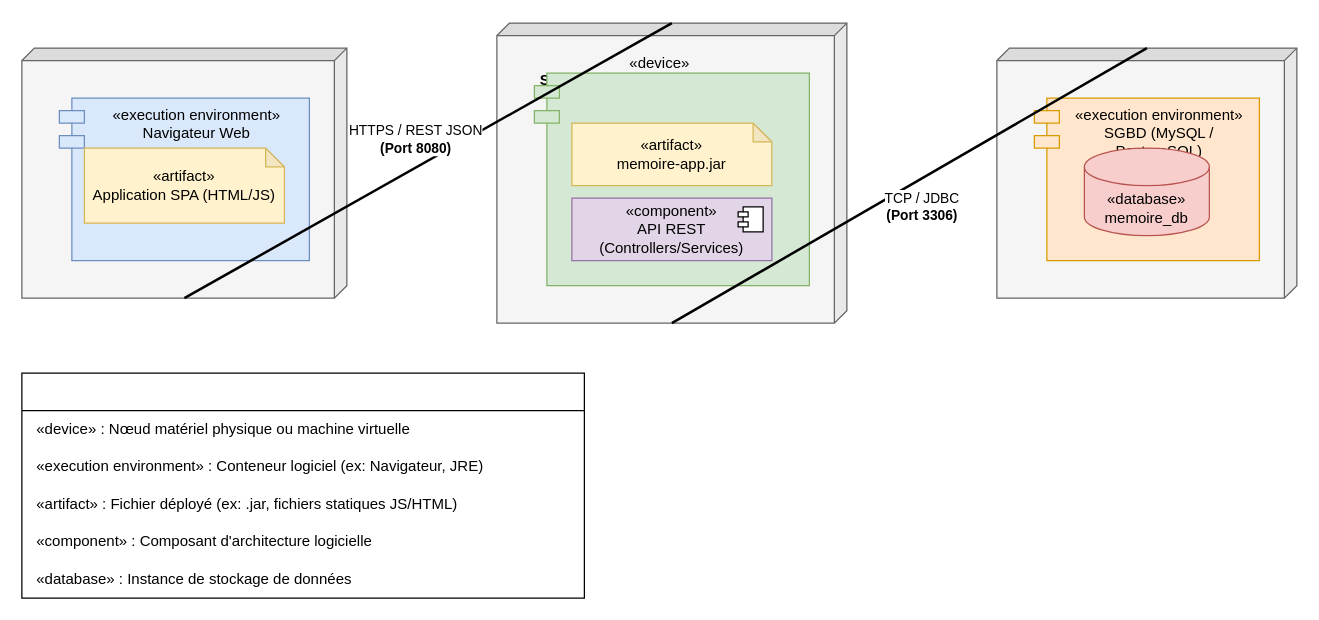
The diagram is 1319 pixels wide and 620 high, and some of its shapes have lost their labels. Each missing label, with the box of its shape:
Légende UML: (21, 372, 584, 598)
«device» Poste Client (Employé / Admin): (21, 47, 347, 298)
«device» Serveur de Base de Données: (996, 47, 1297, 298)
«execution environment» JRE / Serveur Tomcat (Spring Boot): (533, 72, 809, 286)
